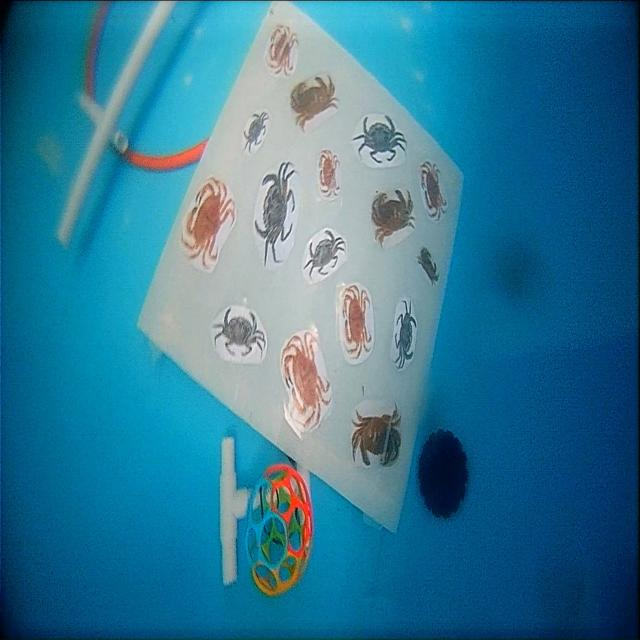GreenCrab: (254, 162, 296, 265), (353, 116, 406, 164), (214, 309, 266, 355), (304, 229, 346, 277), (394, 300, 417, 369), (243, 111, 268, 151)
